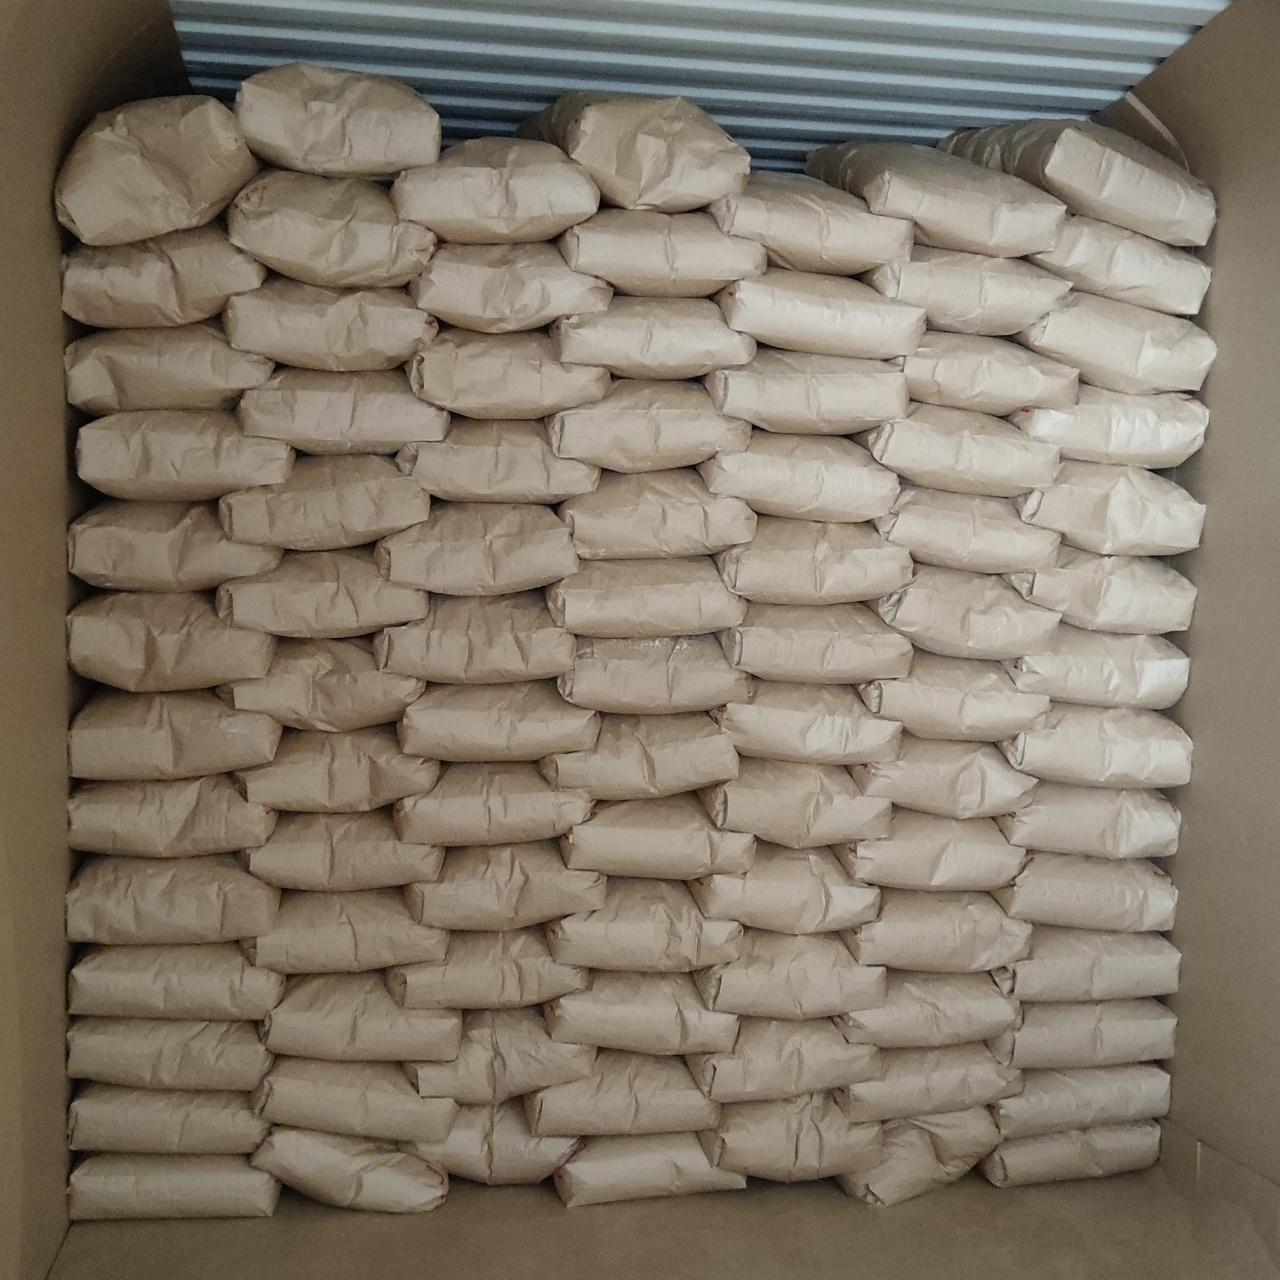sack: (938, 120, 1214, 245), (55, 96, 261, 245), (808, 142, 1065, 257), (522, 91, 749, 212), (229, 169, 436, 284), (234, 63, 440, 176), (62, 222, 268, 328), (392, 138, 600, 243), (708, 171, 913, 274), (1013, 291, 1216, 394), (222, 275, 438, 372), (67, 593, 275, 692), (219, 455, 429, 550), (76, 410, 295, 501), (64, 321, 274, 414), (216, 546, 428, 638), (69, 501, 282, 591), (853, 402, 1058, 496), (217, 640, 425, 731), (67, 855, 280, 944), (545, 380, 750, 472), (862, 245, 1071, 335), (546, 876, 743, 972), (1022, 215, 1210, 315), (70, 690, 282, 779), (374, 590, 574, 683), (715, 268, 925, 358), (375, 503, 578, 594), (697, 430, 899, 522), (407, 328, 611, 418), (410, 243, 613, 333), (559, 209, 767, 297), (237, 368, 448, 454), (557, 469, 756, 559), (869, 565, 1060, 659), (1013, 461, 1204, 554), (404, 840, 605, 930), (240, 888, 451, 973), (406, 1009, 595, 1103), (688, 842, 880, 934), (234, 726, 440, 812), (263, 972, 462, 1061), (702, 347, 908, 433), (396, 416, 599, 503), (539, 712, 738, 799), (1002, 544, 1196, 633), (252, 1057, 458, 1141), (550, 295, 756, 379), (858, 651, 1048, 741), (694, 930, 886, 1019), (1006, 383, 1208, 468), (716, 517, 913, 604), (697, 758, 888, 847), (70, 775, 275, 857), (393, 763, 594, 846), (561, 794, 754, 880), (252, 1126, 447, 1212), (522, 1051, 719, 1136), (397, 680, 600, 761), (685, 1017, 881, 1101), (871, 486, 1060, 573), (69, 942, 284, 1019), (384, 927, 586, 1008), (697, 1092, 880, 1182), (1001, 622, 1189, 709), (998, 704, 1192, 788), (546, 556, 745, 636), (545, 971, 738, 1054), (240, 811, 444, 890), (719, 602, 913, 683), (850, 735, 1037, 818), (719, 680, 903, 764), (838, 1107, 998, 1204), (840, 891, 1032, 972), (832, 810, 1024, 890), (68, 1017, 272, 1091), (557, 635, 749, 713), (399, 1099, 574, 1184), (832, 1042, 1021, 1121), (903, 331, 1077, 415), (990, 853, 1177, 932), (552, 1132, 745, 1207), (990, 926, 1180, 1002), (70, 1083, 268, 1155), (998, 782, 1180, 859), (68, 1155, 280, 1219), (840, 971, 1020, 1047), (992, 1064, 1170, 1141), (992, 998, 1176, 1068), (979, 1119, 1160, 1187)
